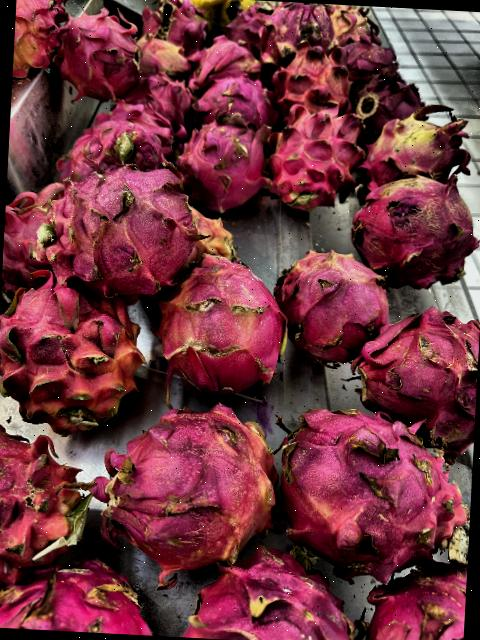buah-naga-belum-matang: (103, 394, 276, 560), (0, 274, 153, 429), (156, 254, 298, 395), (344, 169, 476, 281), (269, 244, 390, 348), (358, 109, 472, 188), (175, 202, 262, 268), (133, 31, 193, 76), (316, 5, 372, 50)
buah-naga-matang: (245, 400, 471, 553), (353, 303, 480, 460), (36, 158, 178, 286), (188, 554, 371, 640), (0, 424, 81, 567), (2, 554, 137, 635), (270, 102, 367, 210), (174, 117, 268, 216), (54, 2, 148, 98), (361, 561, 467, 640), (64, 122, 160, 178), (273, 42, 349, 110), (259, 1, 335, 62), (198, 71, 284, 122), (354, 78, 431, 134), (326, 34, 408, 86), (122, 70, 196, 126), (13, 0, 72, 65), (138, 0, 207, 49), (190, 32, 254, 81)
